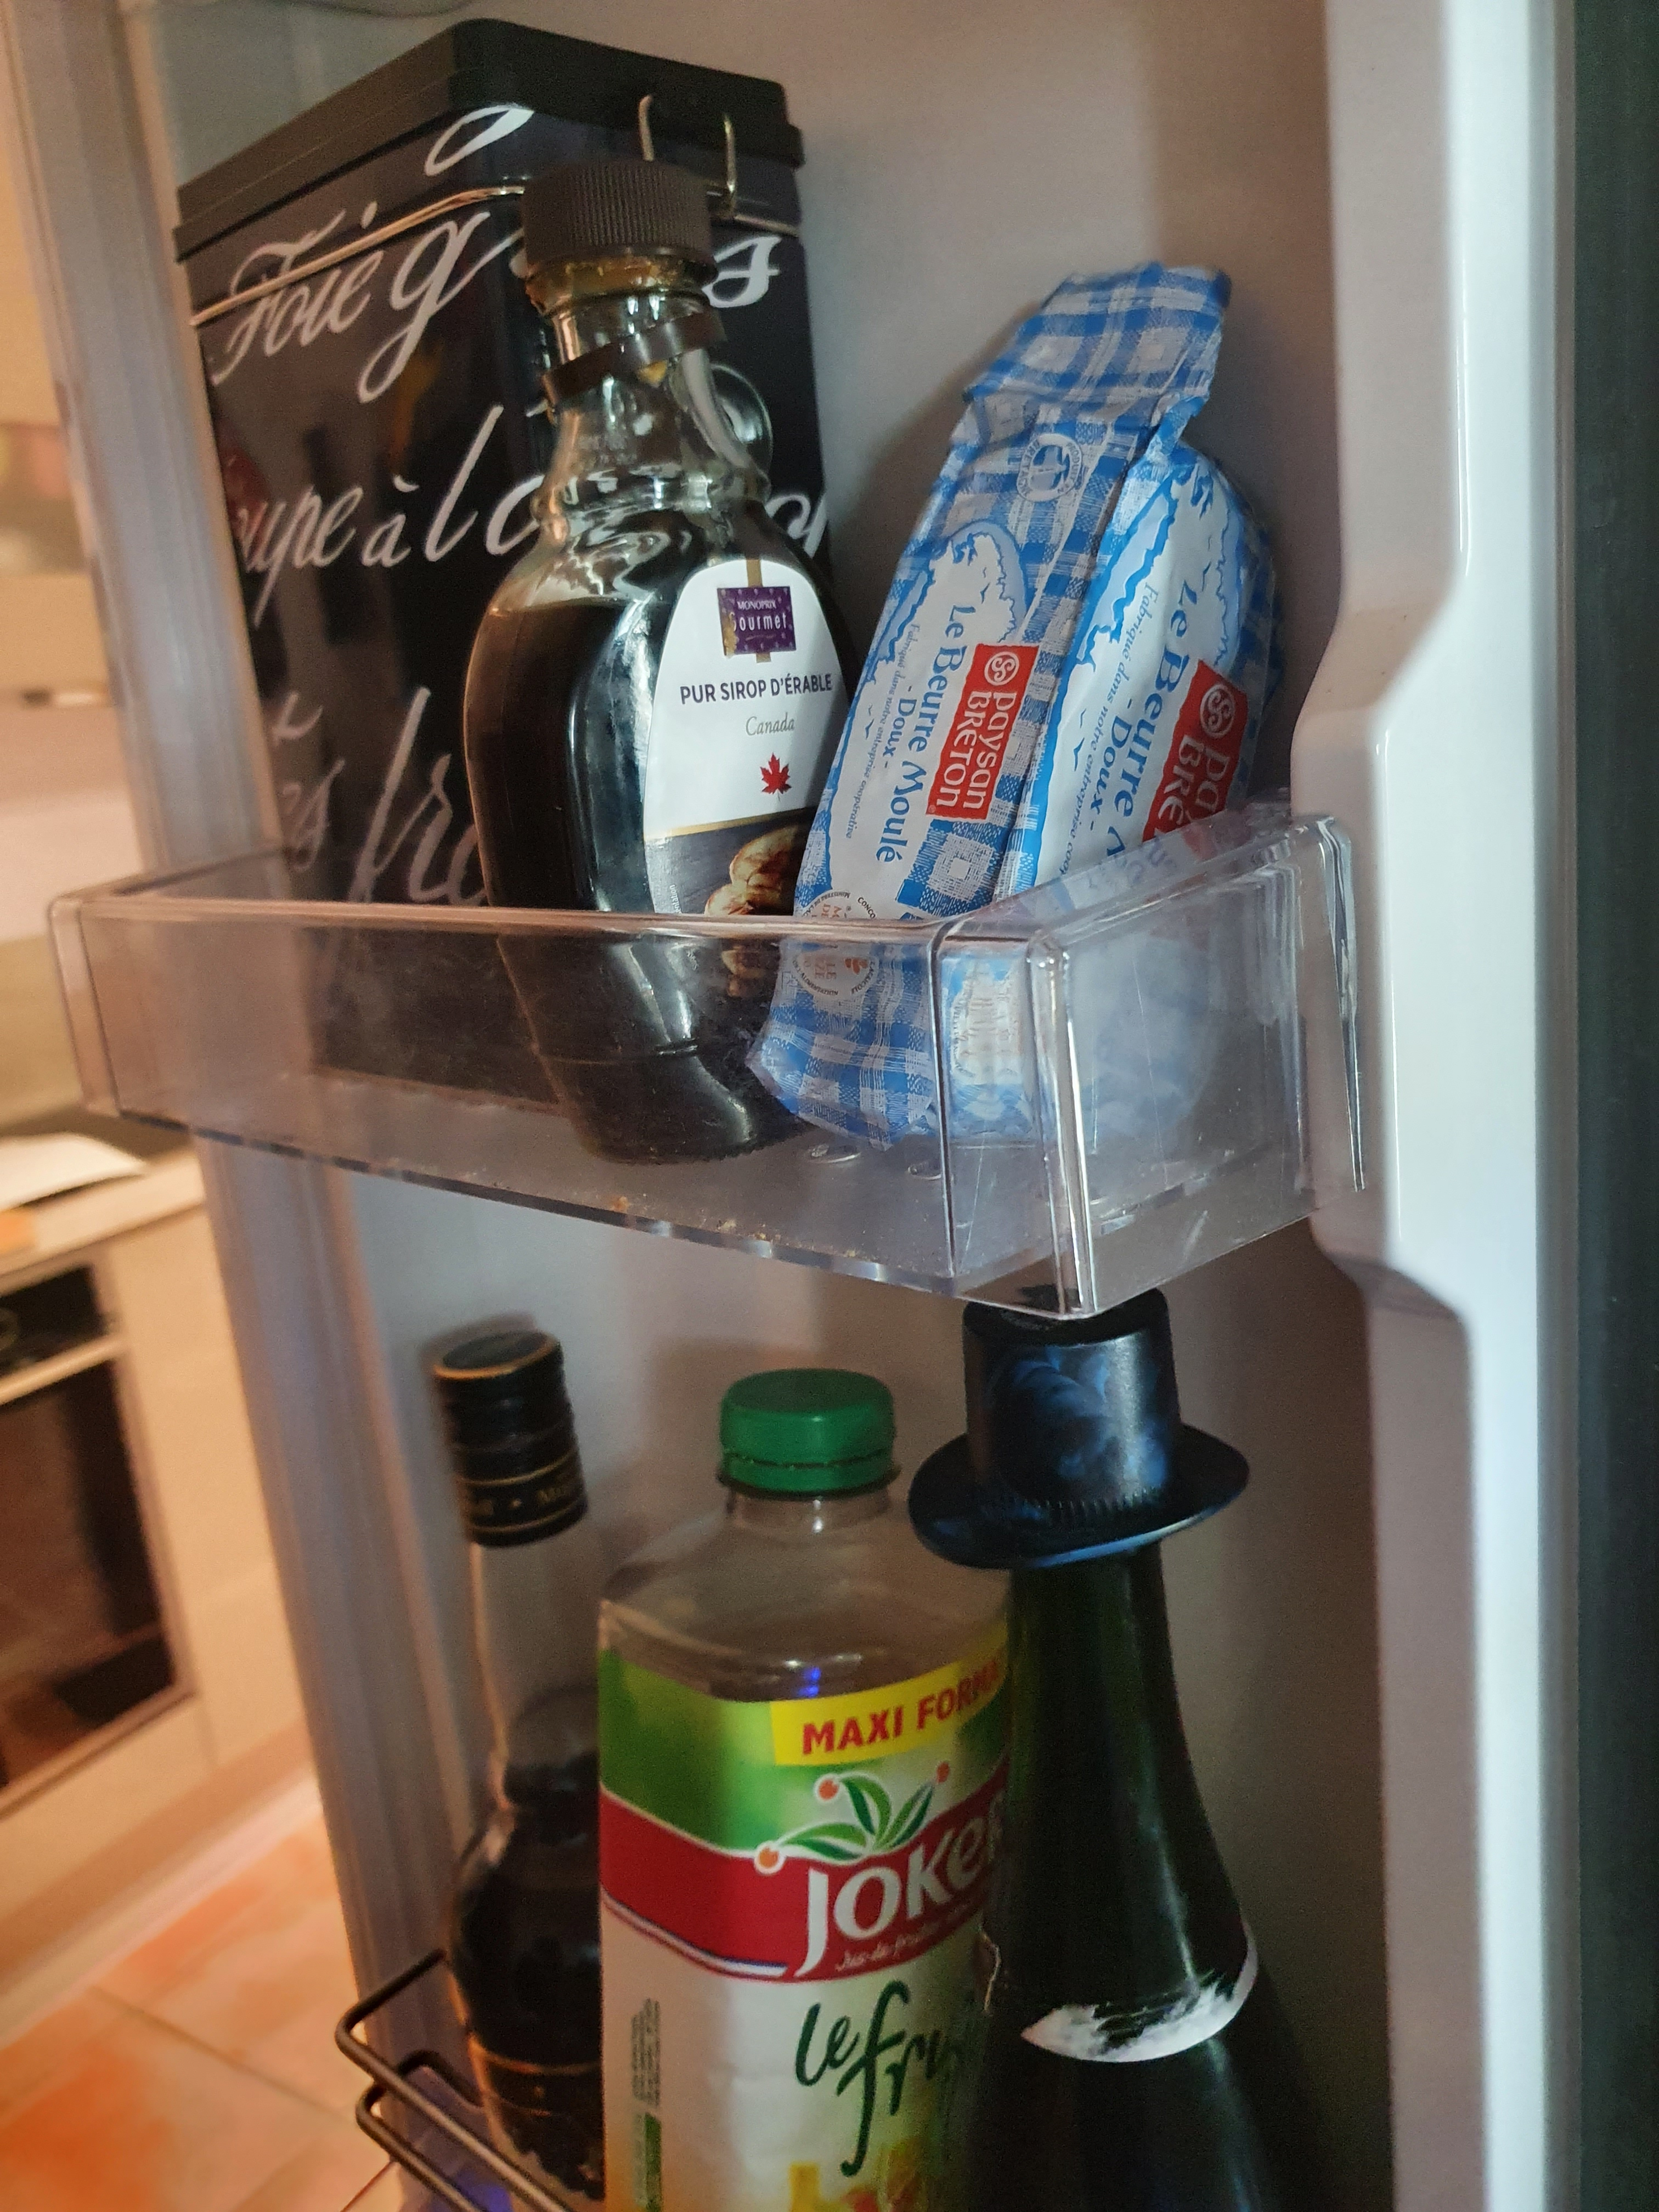bottle: (931, 1312, 1345, 2207), (601, 1371, 1006, 2212), (430, 1339, 608, 2202)
butter: (775, 272, 1276, 1179)
